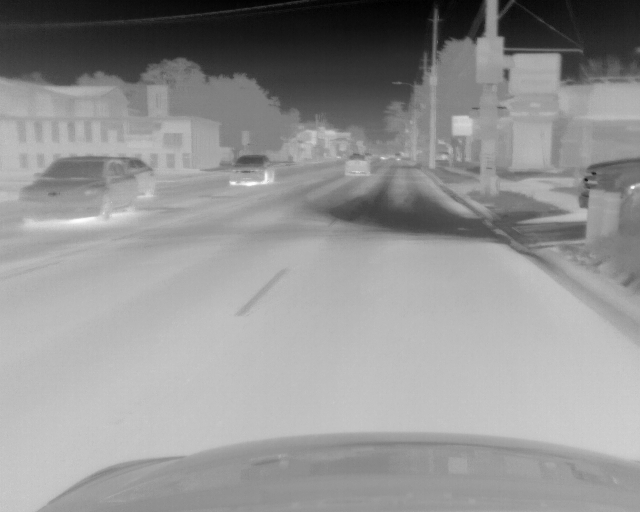car: (15, 157, 137, 225), (228, 154, 274, 186), (126, 155, 155, 200), (342, 154, 372, 179)
